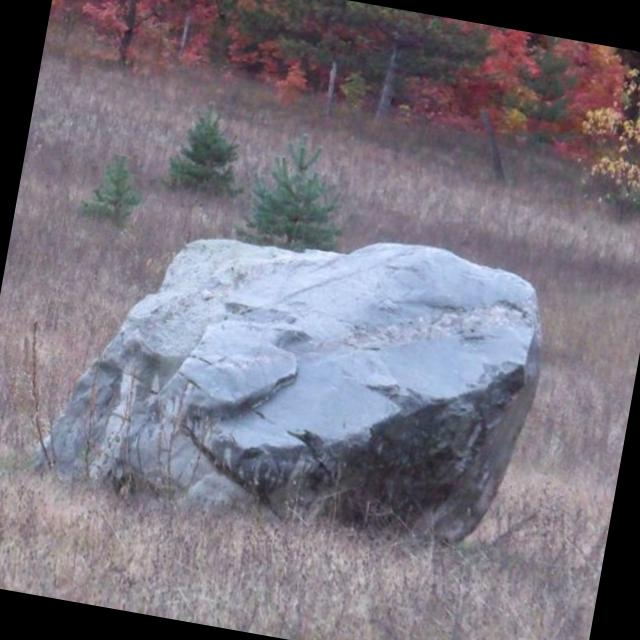stone: (41, 239, 540, 540)
